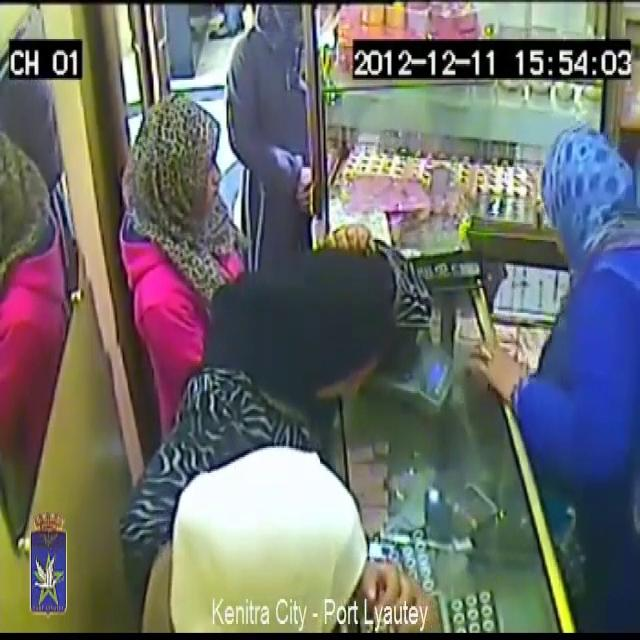normal: (503, 73, 640, 640), (117, 405, 334, 640), (120, 64, 232, 330), (257, 218, 388, 436), (224, 3, 328, 237)
